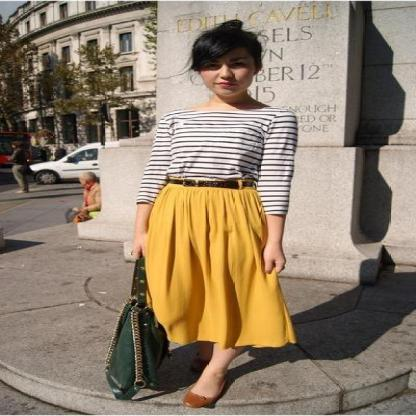bag: (105, 259, 180, 401)
shirt: (133, 99, 303, 210)
shoe: (172, 384, 226, 408)
skirt: (136, 182, 294, 347)
